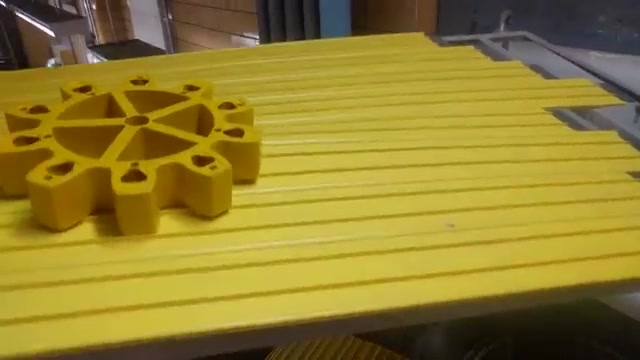gear: (1, 75, 266, 243)
